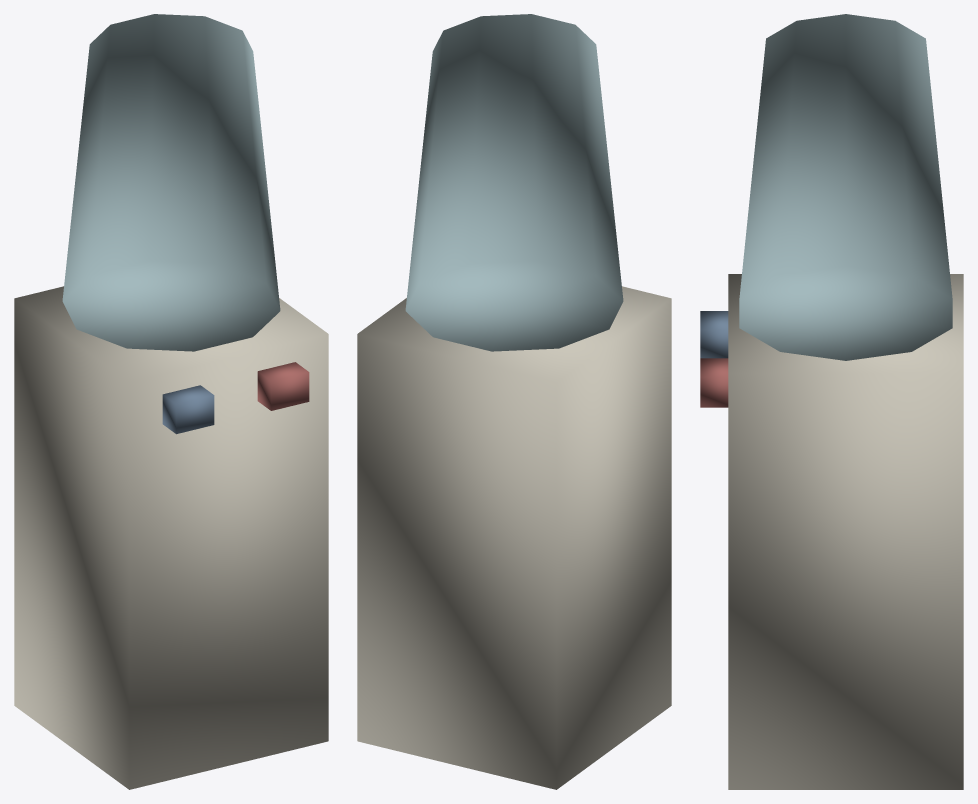
The model's file is water_cooler.glb.
3 views of the same model, side by side, from view 1: azimuth 30°, elevation 25°; view 2: azimuth 150°, elevation 25°; view 3: azimuth 270°, elevation 25° (orthographic). The views are drawn at different scales.
Visible parts, largest first — view 1: world; view 2: world; view 3: world.
Boxes of the visible parts, bbox=[...] form: world: bbox=[14, 14, 328, 789]; world: bbox=[357, 14, 671, 789]; world: bbox=[700, 14, 963, 789].
Bounding box in the file's own units: 0.42 × 1.36 × 0.47.
